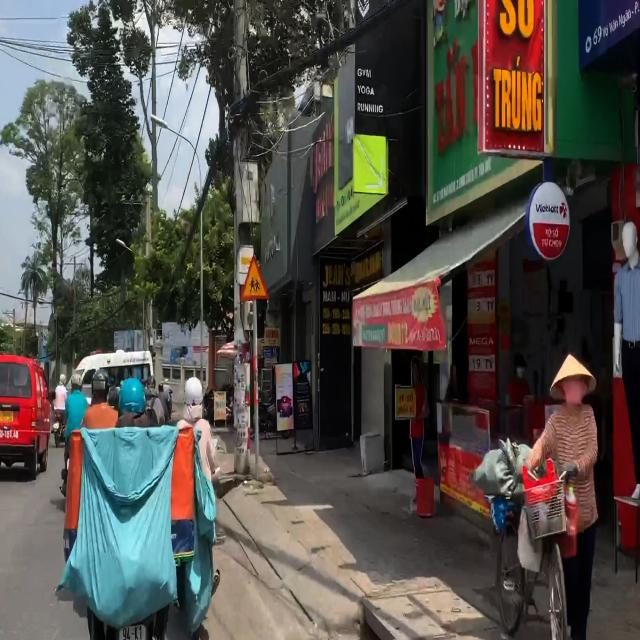Nguy hiem: (238, 253, 268, 304)
